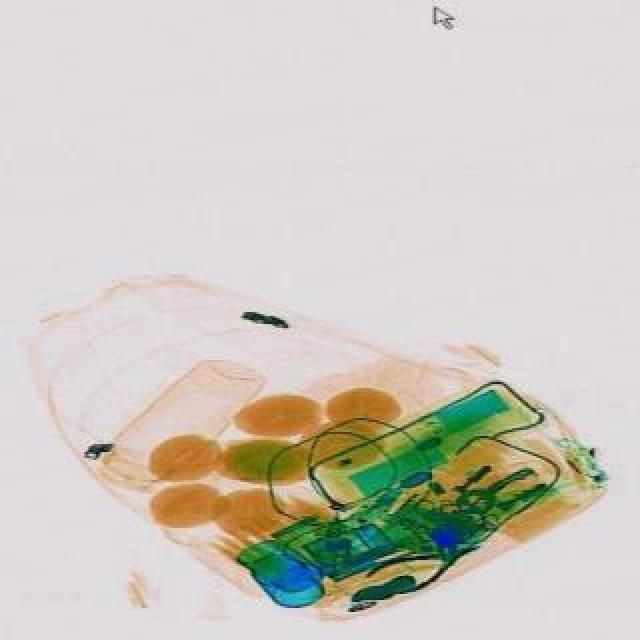wrench: (358, 524, 486, 604)
